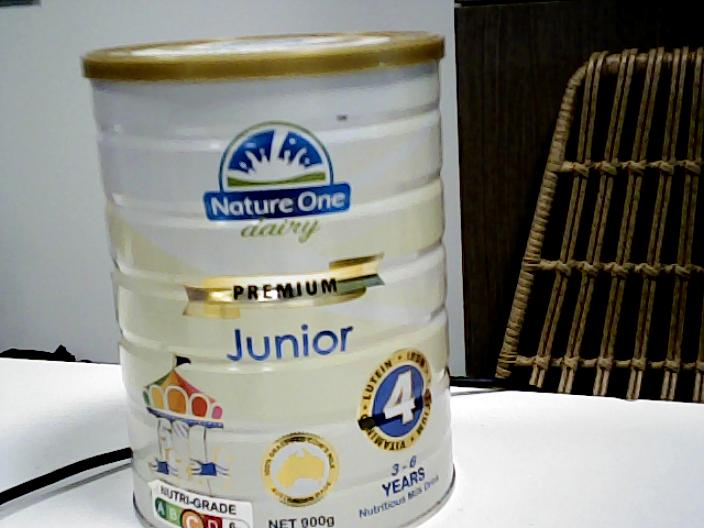Babymilk-powder_500-599g_NonHalal_NonHealthy: (80, 30, 459, 528)
